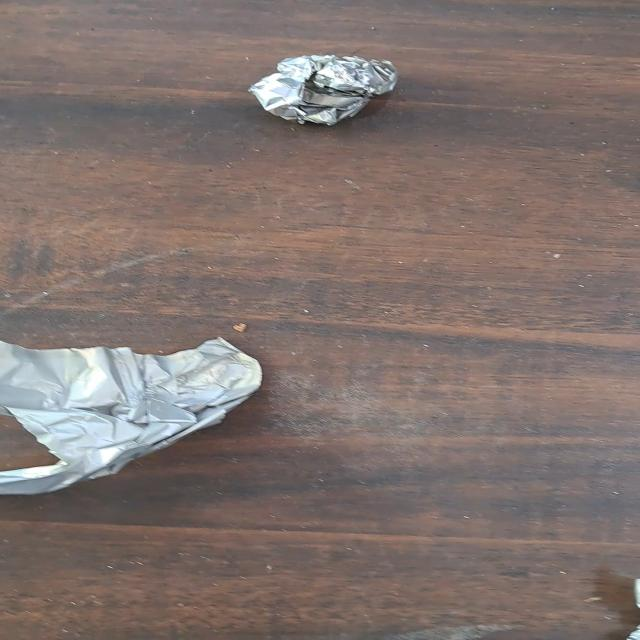Anorganik: (0, 334, 265, 495), (244, 56, 395, 124)
